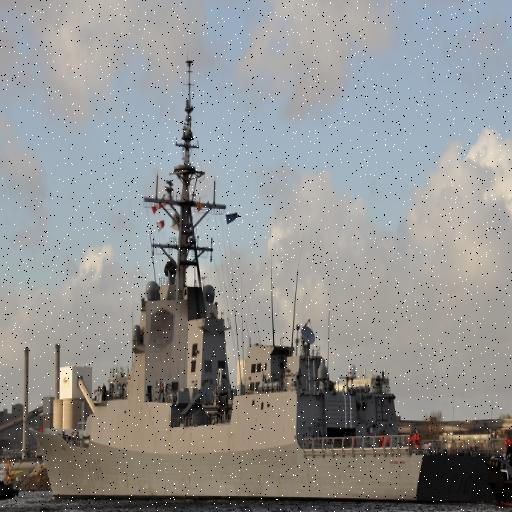Fragata: (27, 48, 508, 507)
